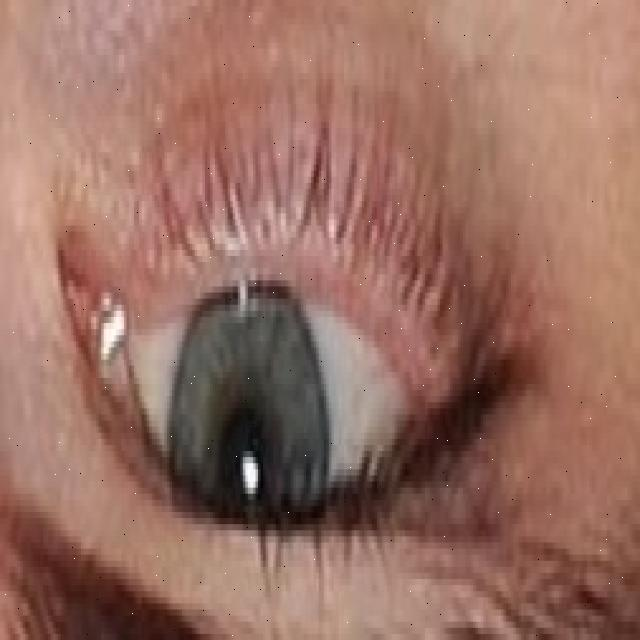Normal: (168, 279, 327, 640)
